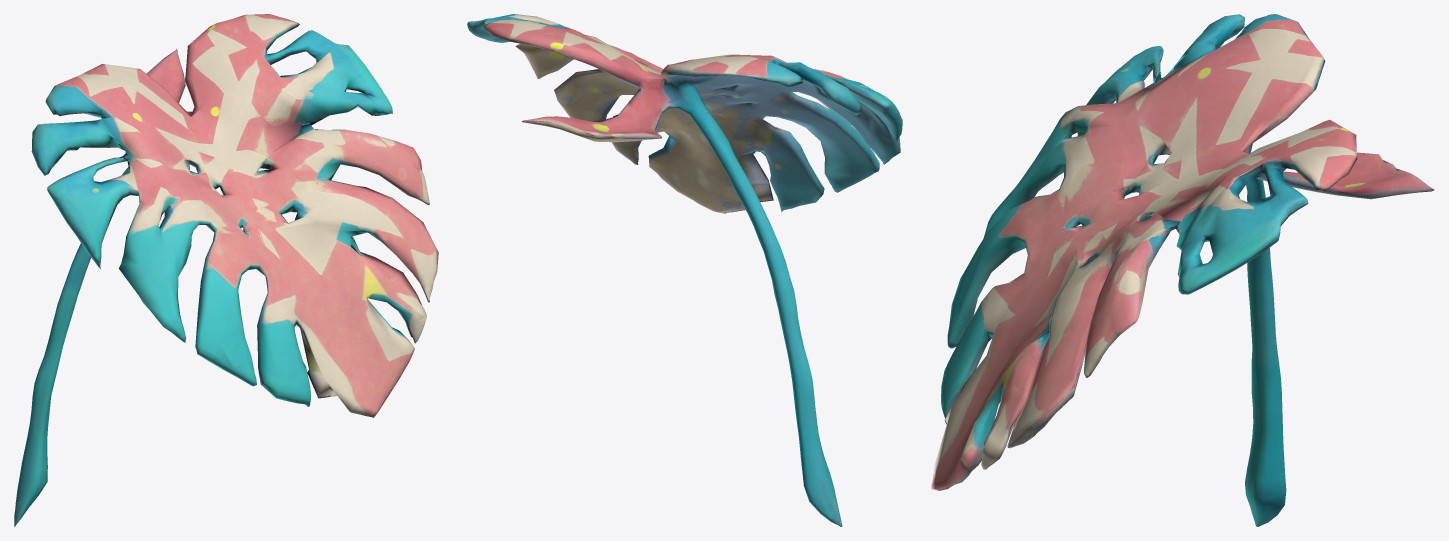
The model's file is mon_star_pinkmint_v1.glb.
3 renders of one model, left to right at view 1: azimuth 30°, elevation 25°; view 2: azimuth 150°, elevation 25°; view 3: azimuth 270°, elevation 25°, orthographic. The views are drawn at different scales.
Visible parts, largest first — view 1: world; view 2: world; view 3: world.
Boxes of the visible parts, x1,y1,x2,y2 form: world: [14, 14, 438, 526]; world: [467, 14, 902, 526]; world: [931, 14, 1434, 526].
Bounding box in the file's own units: 1.78 × 2 × 1.66.
Materials: 1 (1 with a texture image).
